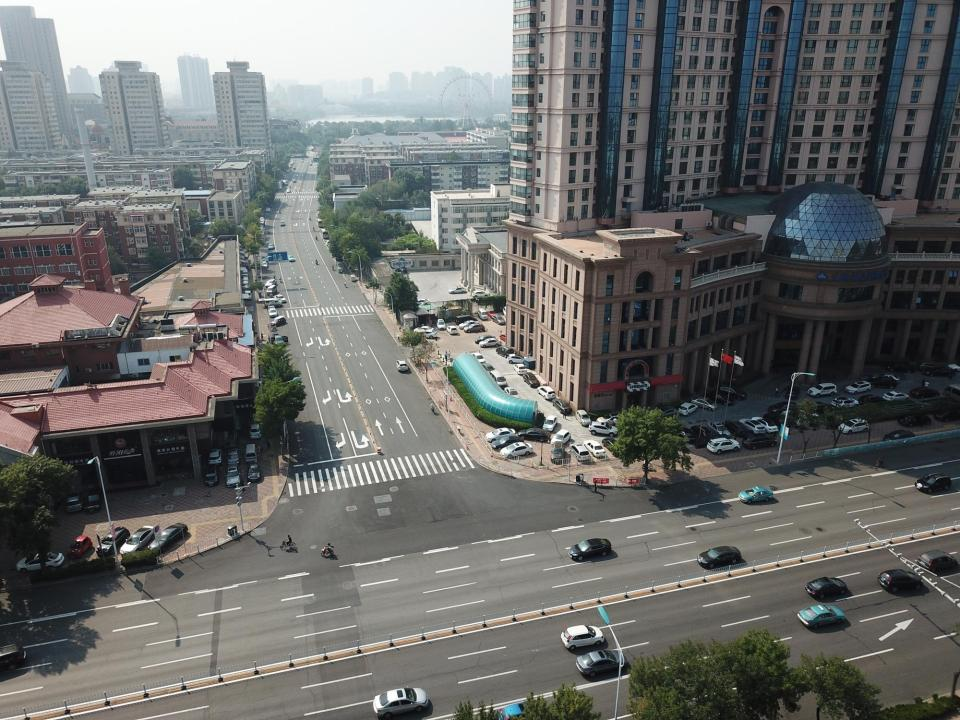car: (371, 686, 429, 718), (574, 648, 628, 677), (118, 524, 158, 558), (147, 522, 189, 552), (876, 568, 924, 594), (796, 605, 846, 629), (96, 525, 131, 558), (15, 550, 65, 573), (560, 624, 605, 649), (697, 546, 742, 570), (567, 537, 612, 561), (804, 576, 848, 600), (916, 549, 957, 571), (0, 643, 27, 672), (914, 472, 951, 493), (65, 534, 94, 560), (494, 702, 530, 720), (706, 437, 741, 455), (714, 382, 748, 400), (738, 486, 773, 503), (82, 483, 101, 514), (742, 433, 778, 449), (500, 442, 533, 459), (588, 420, 618, 438), (484, 427, 516, 443), (837, 418, 869, 434), (806, 382, 838, 398), (517, 427, 551, 442), (704, 389, 734, 406), (491, 435, 524, 450), (896, 413, 931, 427), (706, 420, 732, 438), (738, 418, 767, 434), (722, 420, 749, 437), (65, 488, 84, 512), (596, 412, 628, 426), (690, 395, 718, 411), (766, 401, 800, 414), (882, 429, 916, 442), (885, 361, 916, 375), (670, 426, 697, 442), (751, 416, 778, 432), (933, 406, 960, 422), (915, 359, 944, 373), (802, 401, 833, 414), (866, 376, 897, 389), (225, 463, 241, 488), (583, 440, 606, 457), (550, 428, 571, 446), (845, 380, 872, 394), (568, 444, 590, 461), (922, 366, 956, 377), (204, 463, 219, 487), (690, 424, 714, 439), (910, 386, 940, 398), (601, 438, 621, 456), (552, 398, 573, 415), (942, 382, 960, 401), (490, 369, 508, 388), (551, 440, 565, 464), (832, 396, 860, 408), (574, 408, 592, 426), (882, 390, 909, 402), (536, 385, 556, 400), (872, 373, 902, 383), (859, 395, 888, 405), (652, 406, 678, 417), (678, 401, 698, 415), (542, 414, 557, 432), (524, 372, 540, 388), (245, 443, 257, 464), (226, 447, 240, 465), (247, 463, 260, 482), (207, 448, 222, 464), (414, 329, 438, 339), (506, 353, 530, 363), (478, 337, 501, 347), (503, 386, 520, 399), (270, 315, 287, 327), (785, 386, 801, 398), (454, 315, 478, 323), (480, 362, 496, 374), (249, 424, 262, 438), (471, 352, 486, 364), (474, 334, 496, 342), (395, 358, 408, 371), (464, 324, 485, 332), (458, 320, 479, 328), (512, 364, 528, 374), (471, 290, 490, 298), (413, 326, 434, 333), (448, 286, 466, 294), (492, 315, 506, 325), (273, 335, 284, 347), (412, 298, 430, 305), (268, 306, 278, 318), (446, 325, 458, 335), (436, 318, 445, 331), (947, 362, 960, 371), (265, 278, 276, 288), (319, 228, 329, 239), (274, 294, 287, 302), (486, 310, 497, 318), (316, 218, 324, 227), (499, 333, 506, 342), (315, 209, 322, 218), (288, 255, 295, 262), (261, 255, 268, 261), (325, 239, 331, 246), (268, 243, 274, 249), (261, 261, 267, 267), (502, 307, 506, 316), (279, 221, 285, 226), (264, 207, 270, 212), (286, 188, 291, 193), (259, 217, 264, 222), (292, 178, 297, 182), (283, 181, 288, 185), (259, 221, 265, 224), (300, 159, 304, 163), (309, 162, 313, 166), (290, 160, 294, 164), (290, 162, 294, 166), (283, 175, 287, 179), (278, 185, 282, 189), (292, 166, 296, 169), (288, 165, 292, 168), (286, 169, 290, 172), (310, 159, 313, 162)
truck: (350, 274, 356, 282), (337, 266, 343, 274), (292, 154, 303, 158)
van: (496, 345, 514, 359), (264, 298, 282, 308), (477, 308, 488, 320), (266, 285, 277, 295)
